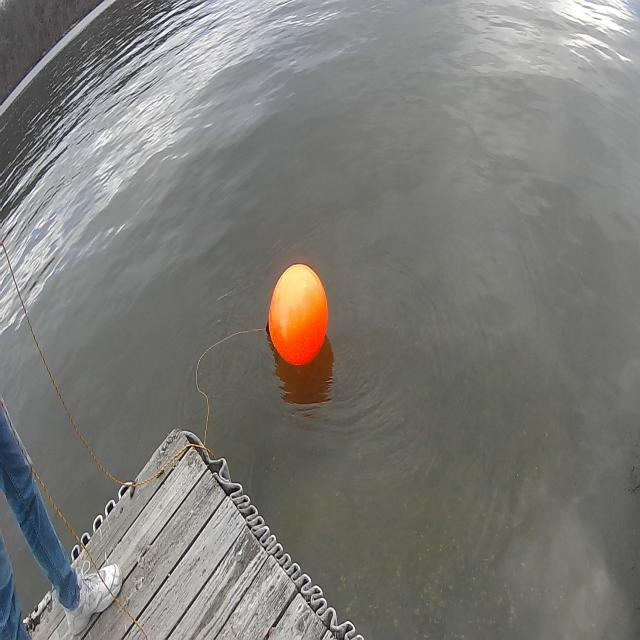Buoy: (263, 260, 330, 368)
